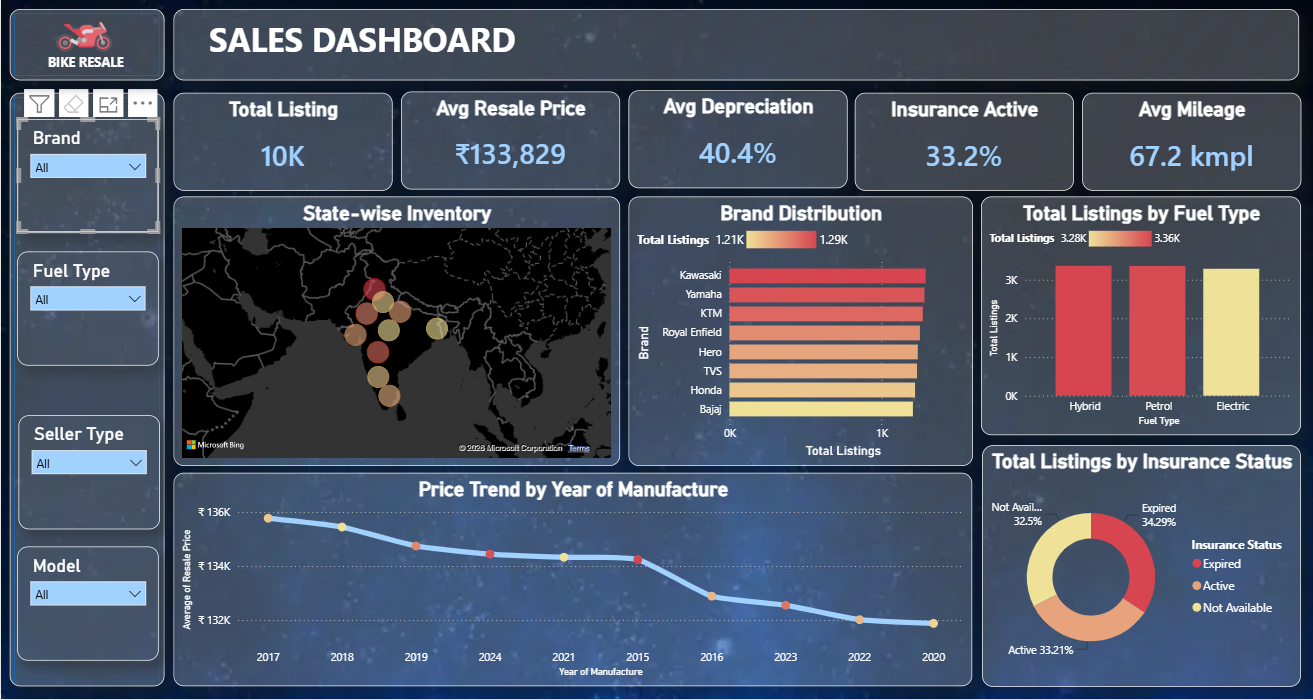

The page's visual inventory and layout, read from the dashboard file:
{"tool":"powerbi","page":{"name":"Page 1","canvas":[1500,800],"ordinal":0},"visuals":[{"type":"cardVisual","title":"Total Listing","fields":{"Data":["bike_sales_india.Total Listings"]},"box":[196.7,106.7,250,111.7],"z":0},{"type":"cardVisual","title":"Avg Resale Price","fields":{"Data":["bike_sales_india.Final Raw No"]},"box":[456.8,105.5,250,111.7],"z":1000},{"type":"cardVisual","title":"Avg Depreciation","fields":{"Data":["bike_sales_india.Avg Depreciation %"]},"box":[716.4,104.3,250,111.7],"z":2000},{"type":"cardVisual","title":"Insurance Active","fields":{"Data":["bike_sales_india.Insurance %"]},"box":[976.1,106.7,250,111.7],"z":3000},{"type":"cardVisual","title":"Avg Mileage","fields":{"Data":["bike_sales_india.Avg Mileage Text"]},"box":[1235,106.7,250,111.7],"z":4000},{"type":"barChart","title":"Brand Distribution","fields":{"Category":["bike_sales_india.Brand"],"Y":["bike_sales_india.Total Listings"]},"box":[716.7,225,393.3,308.3],"z":5000},{"type":"clusteredColumnChart","fields":{"Category":["bike_sales_india.Fuel Type"],"Y":["bike_sales_india.Total Listings"]},"box":[1120,225.7,365.7,272.9],"z":6000},{"type":"map","title":"State-wise Inventory","fields":{"Category":["bike_sales_india.State"],"Size":["bike_sales_india.Total Listings"]},"box":[196.7,225,510,308.3],"z":7000},{"type":"lineChart","title":"Price Trend by Year of Manufacture","fields":{"Category":["bike_sales_india.Year of Manufacture"],"Y":["Avg(bike_sales_india.Resale Price)"]},"box":[197.1,541.4,912.9,244.3],"z":8000},{"type":"shape","box":[10,106.7,176.7,678.3],"z":9000},{"type":"donutChart","fields":{"Category":["bike_sales_india.Insurance Status"],"Y":["bike_sales_india.Total Listings"]},"box":[1121.4,510,364.3,275.7],"z":10000},{"type":"textbox","box":[196.7,11.7,1286.7,81.7],"z":11000},{"type":"slicer","fields":{"Values":["bike_sales_india.Fuel Type"]},"box":[18.6,288.6,161.4,130],"z":12000},{"type":"slicer","fields":{"Values":["bike_sales_india.Brand"]},"box":[18.3,136.7,161.7,130],"z":13000},{"type":"slicer","fields":{"Values":["bike_sales_india.Model"]},"box":[18.3,625,161.7,130],"z":14000},{"type":"shape","box":[10,11.7,176.7,81.7],"z":15000},{"type":"textbox","box":[48.6,57.1,128.6,35.7],"z":16000},{"type":"image","box":[41.4,11.4,107.1,64.3],"z":17000},{"type":"slicer","fields":{"Values":["bike_sales_india.Seller Type"]},"box":[20,475.7,161.4,130],"z":18000}]}

Visuals, with their boxes in screenshot pixels (x1, y1, x2, y2), scaled from the page's 1500x800 canvas onto the 1313x700 screenshot:
"Total Listing" cardVisual: x1=172, y1=93, x2=391, y2=191
"Avg Resale Price" cardVisual: x1=400, y1=92, x2=619, y2=190
"Avg Depreciation" cardVisual: x1=627, y1=91, x2=846, y2=189
"Insurance Active" cardVisual: x1=854, y1=93, x2=1073, y2=191
"Avg Mileage" cardVisual: x1=1081, y1=93, x2=1300, y2=191
"Brand Distribution" barChart: x1=627, y1=197, x2=972, y2=467
clusteredColumnChart - bike_sales_india.Fuel Type x bike_sales_india.Total Listings: x1=980, y1=197, x2=1300, y2=436
"State-wise Inventory" map: x1=172, y1=197, x2=619, y2=467
"Price Trend by Year of Manufacture" lineChart: x1=173, y1=474, x2=972, y2=687
shape: x1=9, y1=93, x2=163, y2=687
donutChart - bike_sales_india.Insurance Status x bike_sales_india.Total Listings: x1=982, y1=446, x2=1300, y2=687
textbox: x1=172, y1=10, x2=1298, y2=82
slicer - bike_sales_india.Fuel Type: x1=16, y1=253, x2=158, y2=366
slicer - bike_sales_india.Brand: x1=16, y1=120, x2=158, y2=233
slicer - bike_sales_india.Model: x1=16, y1=547, x2=158, y2=661
shape: x1=9, y1=10, x2=163, y2=82
textbox: x1=43, y1=50, x2=155, y2=81
image: x1=36, y1=10, x2=130, y2=66
slicer - bike_sales_india.Seller Type: x1=18, y1=416, x2=159, y2=530
